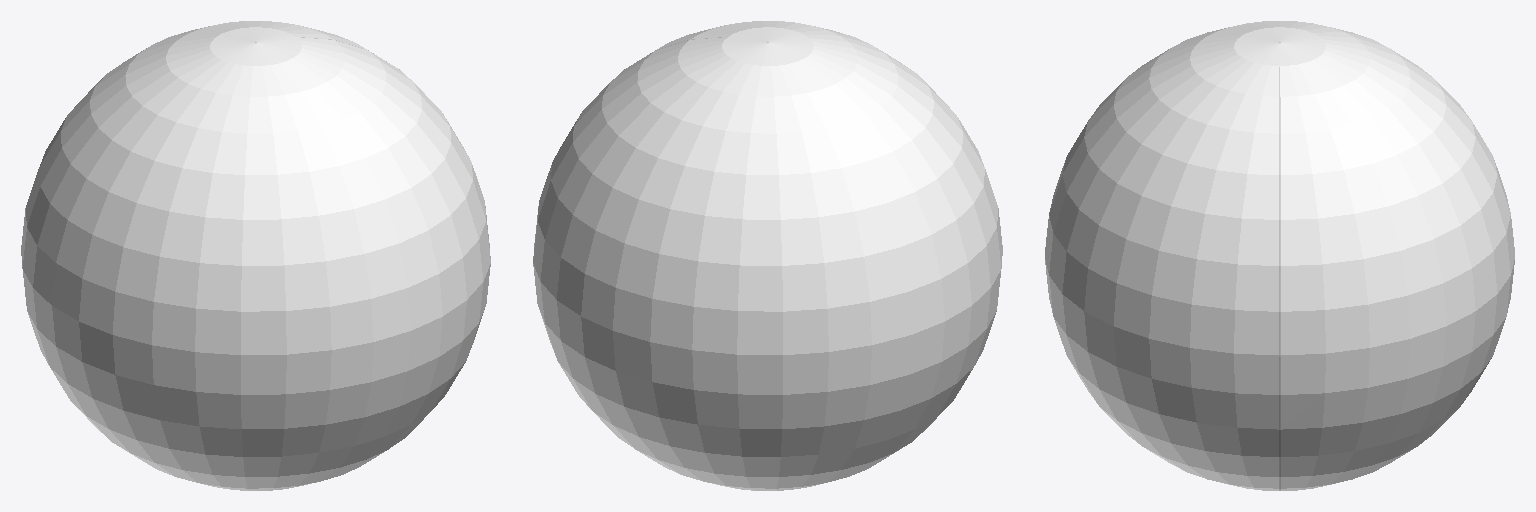
3 views of the same model, side by side, from view 1: azimuth 30°, elevation 25°; view 2: azimuth 150°, elevation 25°; view 3: azimuth 270°, elevation 25° (orthographic).
Visible parts, largest first — view 1: 球; view 2: 球; view 3: 球.
Part boxes in pixels (bbox=[...]): 球: bbox=[21, 21, 490, 490]; 球: bbox=[533, 21, 1002, 490]; 球: bbox=[1045, 21, 1514, 490].
Bounding box in the file's own units: 0.6 × 0.6 × 0.6.
Materials: 1 (1 with a texture image).